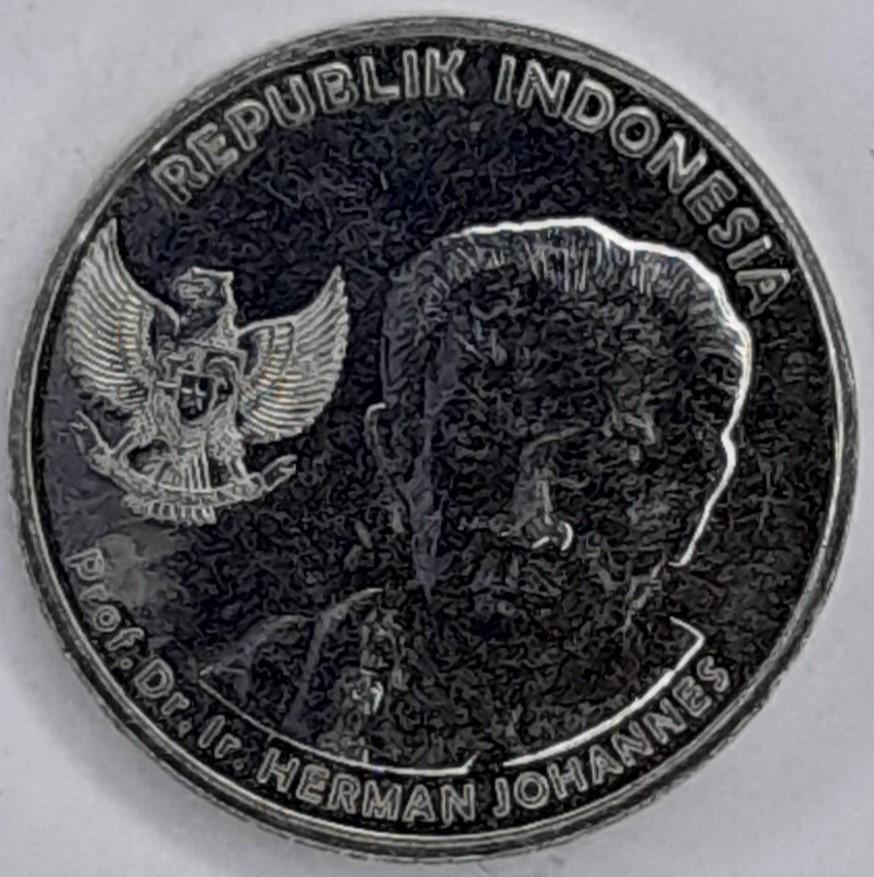coin_100_e2016: (2, 10, 863, 863)
